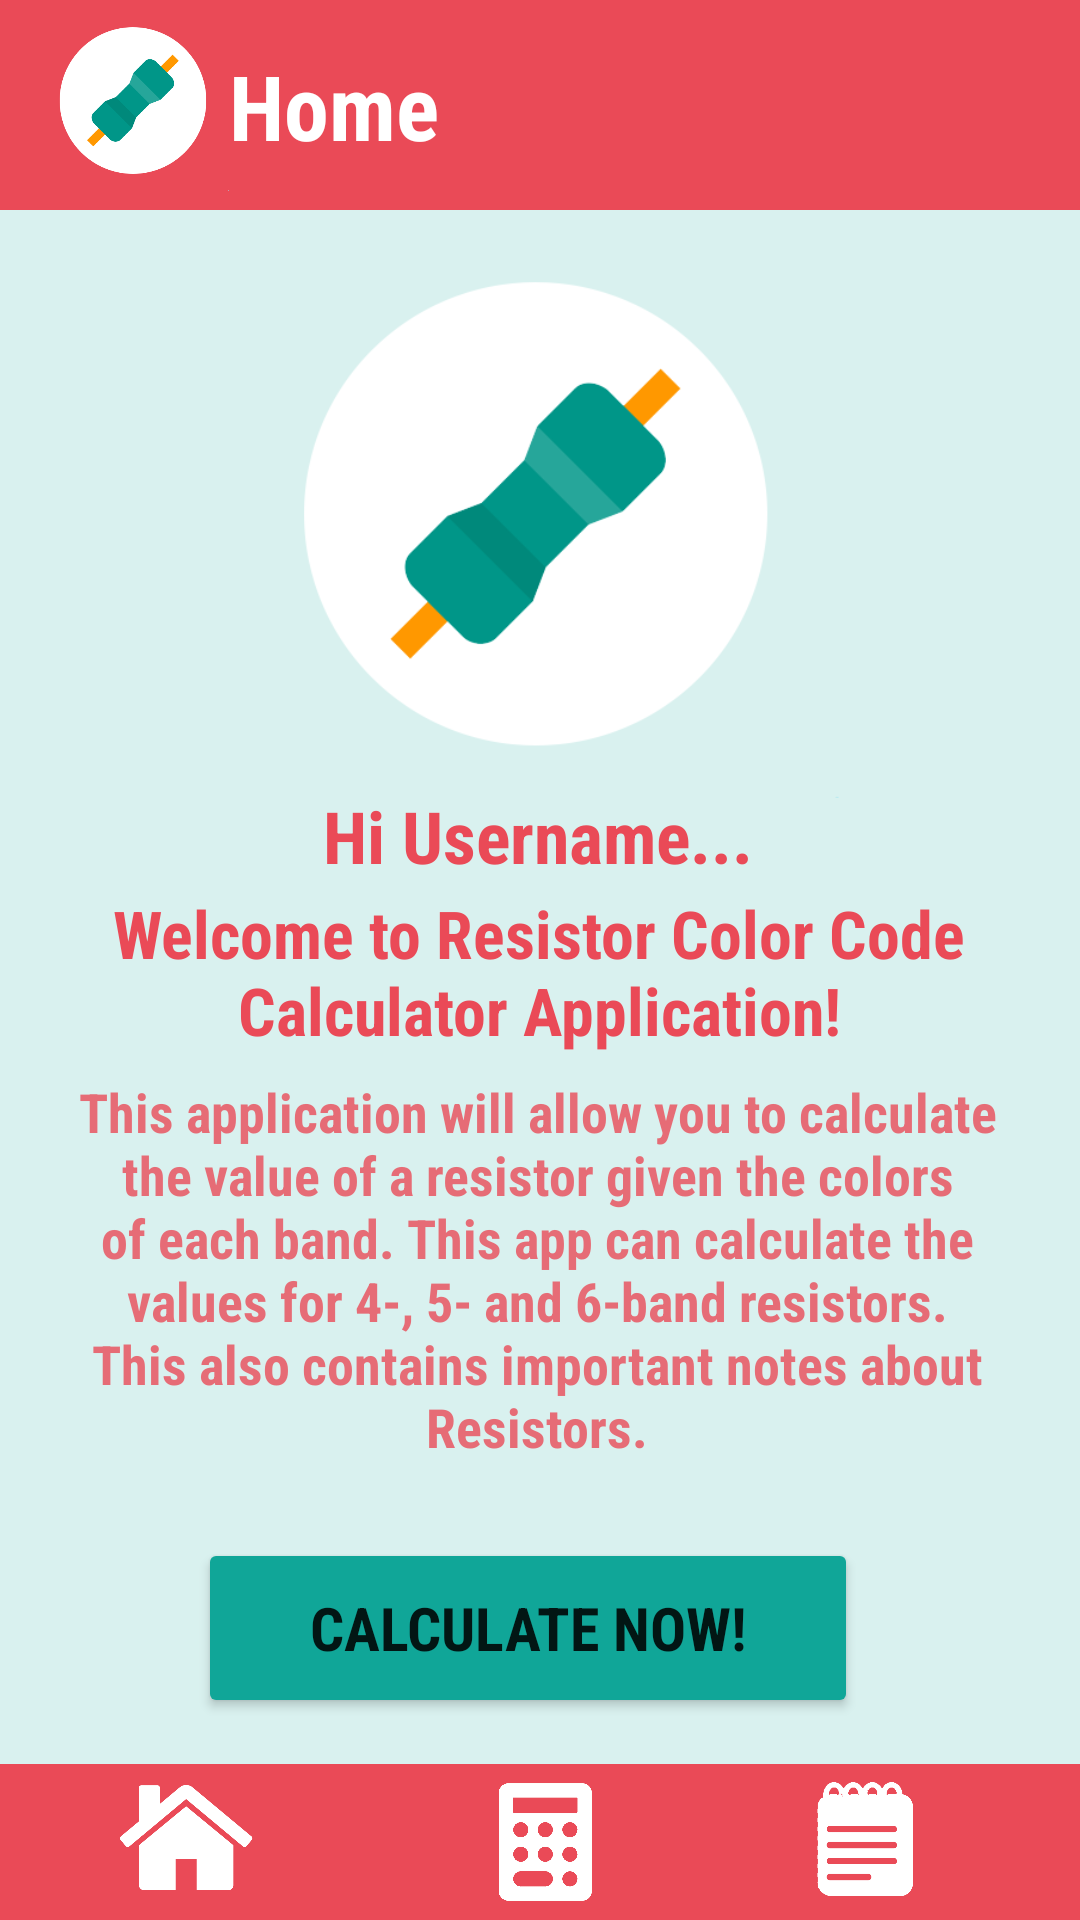

Icon click points for this 1080 x 1920 phone screenshot, format (x=x, y=y):
home: (x=186, y=1837)
notes: (x=865, y=1839)
